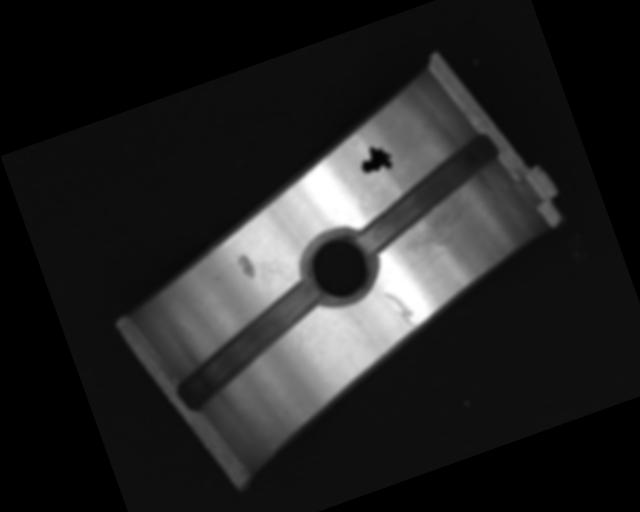blot: (354, 139, 395, 178)
bruise: (234, 251, 257, 282)
gap: (158, 277, 342, 412), (340, 131, 513, 252)
hole: (298, 222, 384, 308)
nick: (382, 285, 418, 334)
scratch: (385, 189, 488, 265)
